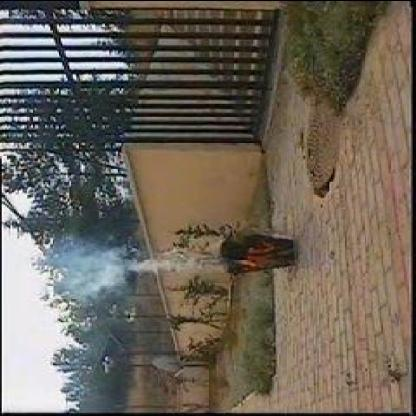-: (52, 244, 137, 294)
foggia-v2-map80-epoch100 - v1 4323: (228, 250, 258, 274)
